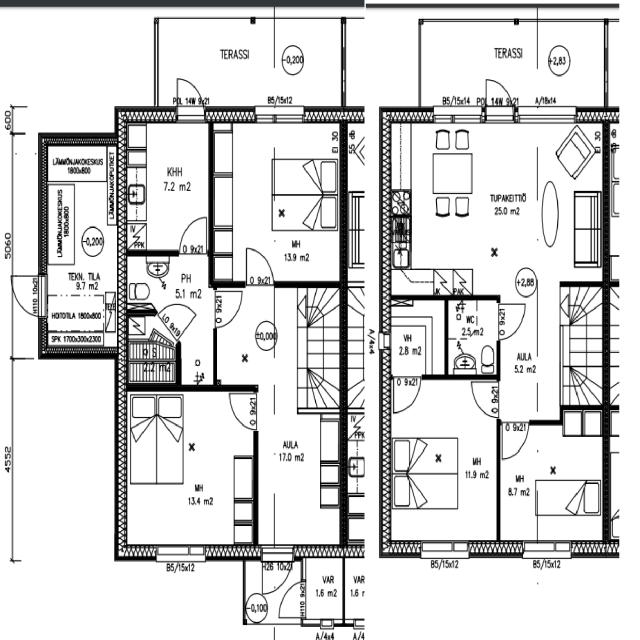door: (260, 551, 296, 596), (173, 74, 207, 120), (242, 243, 277, 286), (11, 272, 44, 316), (177, 211, 210, 255), (214, 284, 245, 328), (469, 377, 501, 418), (392, 374, 423, 416), (228, 388, 258, 431), (500, 419, 530, 461), (484, 76, 515, 116), (276, 579, 307, 619), (496, 300, 526, 341)
window: (346, 191, 366, 269), (516, 104, 580, 124), (252, 104, 306, 126), (430, 105, 486, 126), (418, 538, 471, 556), (153, 544, 206, 560), (521, 540, 574, 556), (319, 619, 336, 631)
zone: (391, 122, 585, 294), (126, 387, 256, 549), (215, 116, 340, 282), (389, 373, 497, 541), (499, 420, 604, 542), (126, 120, 211, 252), (215, 286, 307, 388), (123, 252, 209, 346), (386, 298, 446, 378), (447, 296, 499, 376), (127, 313, 177, 384), (302, 556, 344, 625), (46, 144, 109, 183)
